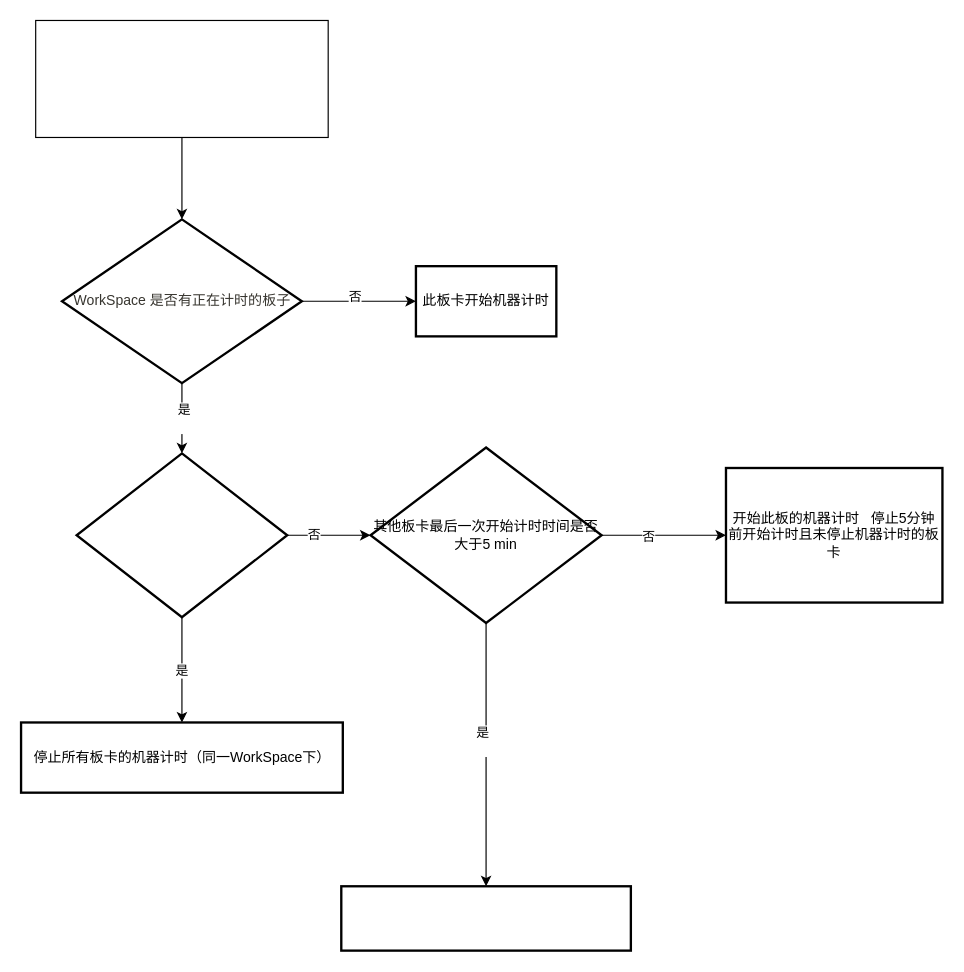
The diagram is 964 pixels wide and 972 high, and some of its shapes have lost their labels. The shapes that lost their labels are listed below. From the top down, each one's box as (x1, y1, x2, y2) in pixels, then its label:
(35, 19, 328, 137): 板卡点击Start/Continue, 同一WorkSpace下
(75, 452, 288, 618): 是否点击过人工 Pause
(340, 885, 631, 951): 开始此板卡机器计时，并停止其他所有板卡机器计时
